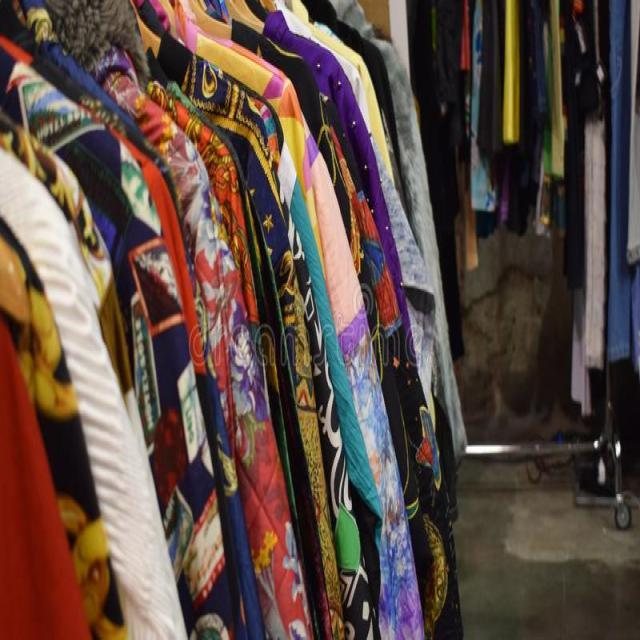clothes: (16, 9, 404, 640)
